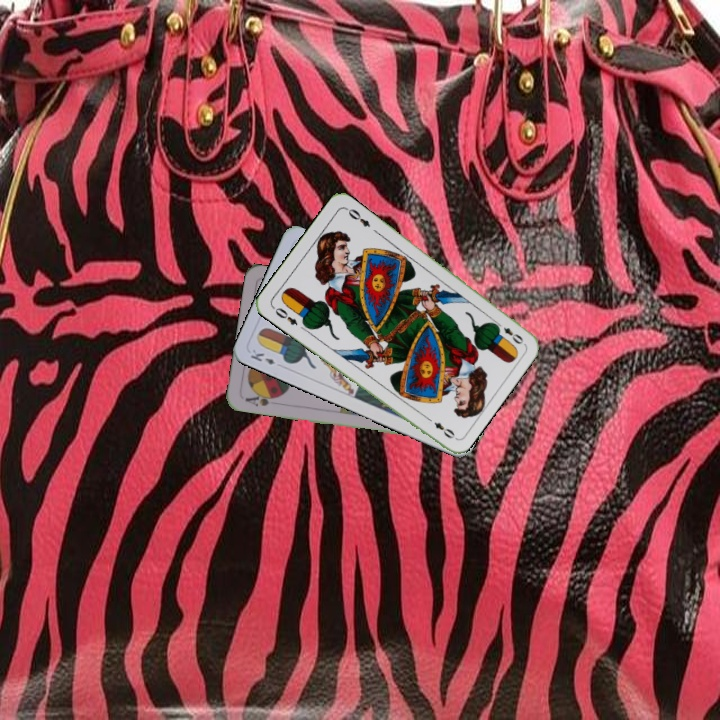EK: (246, 345, 278, 367)
EO: (491, 318, 526, 347), (271, 303, 300, 328)
SA: (241, 389, 282, 409)
